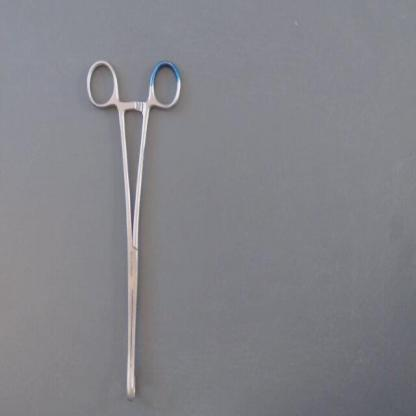Sponge Forceps: (79, 53, 187, 405)
